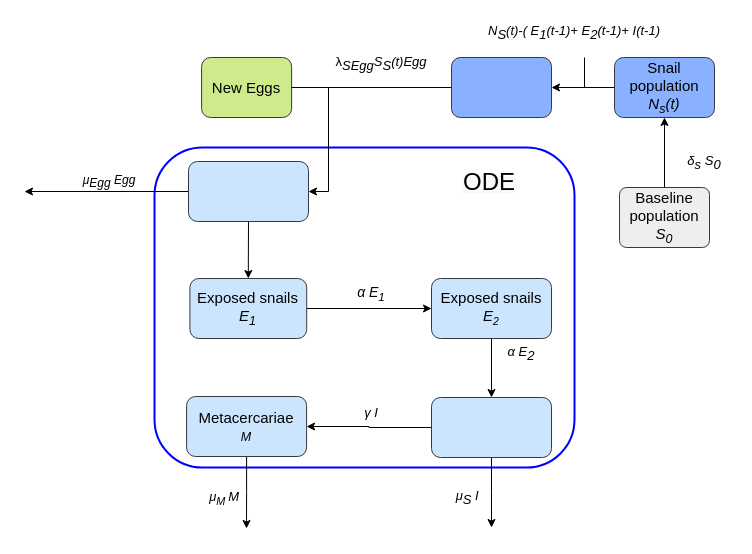
The diagram is 752 pixels wide and 554 high, and some of its shapes have lost their labels. Here are the shapes that lost their labels. From the top down, the centre of each, then its label:
At point 501,87: "Susceptible snails S S (t)".
At point 248,191: "Eggs Egg".
At point 491,427: "Infected snails I".
